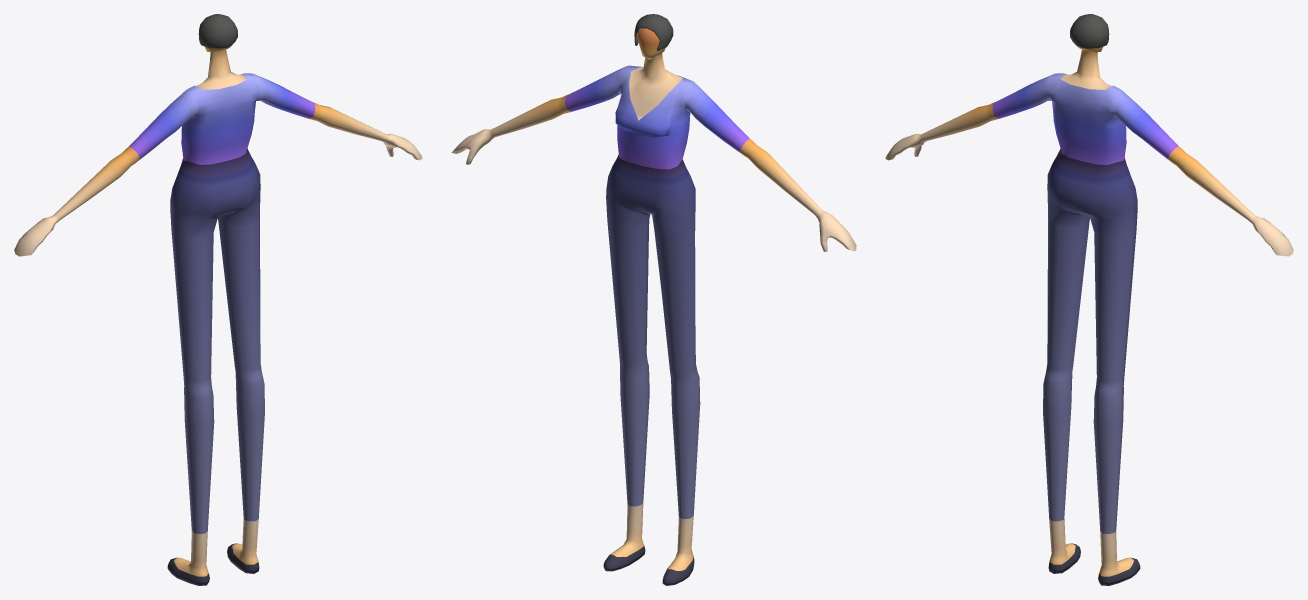
The model's file is mesh_char_54.fbx.
The picture shows the model from 3 angles, left to right: view 1: azimuth 30°, elevation 25°; view 2: azimuth 150°, elevation 25°; view 3: azimuth 330°, elevation 25°; orthographic projection.
Parts seen in each view (by area): view 1: mesh_char_54; view 2: mesh_char_54; view 3: mesh_char_54.
Boxes of the visible parts, box(x1,y1,x2,y2) form: mesh_char_54: box(14, 14, 422, 585); mesh_char_54: box(451, 14, 856, 585); mesh_char_54: box(885, 14, 1293, 585).
Size of the model in its own units: 10.69 by 13.97 by 1.51.
2 materials, 2 textured.
